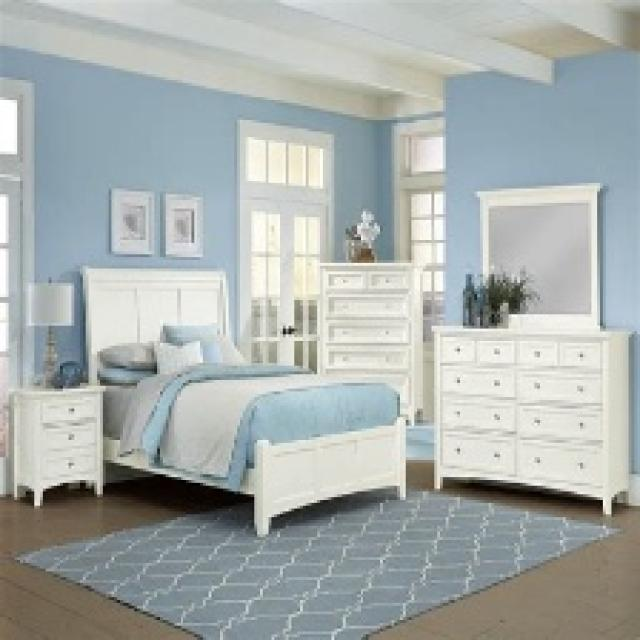bed: (112, 319, 309, 493)
cabinet: (433, 322, 630, 510), (14, 384, 110, 508), (320, 264, 418, 382)
lamp: (27, 275, 78, 391)
